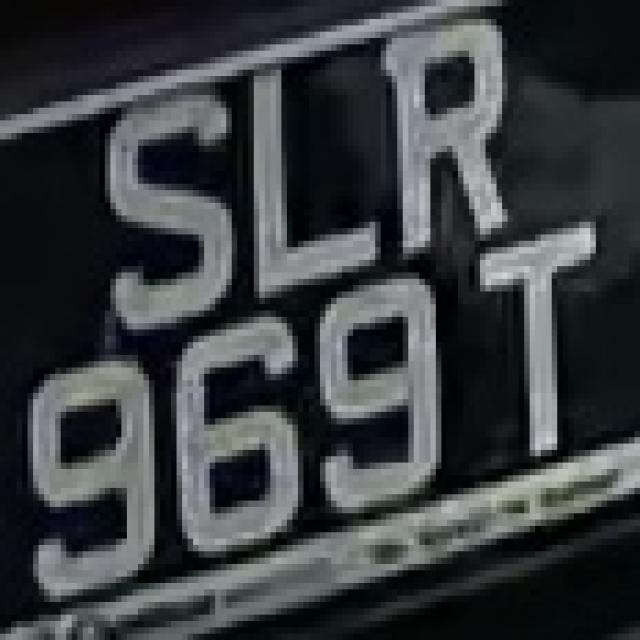6: (143, 304, 309, 570)
9: (298, 279, 458, 526), (22, 342, 160, 621)
L: (248, 51, 381, 298)
R: (375, 25, 519, 247)
S: (83, 89, 248, 323)
T: (452, 215, 612, 476)
